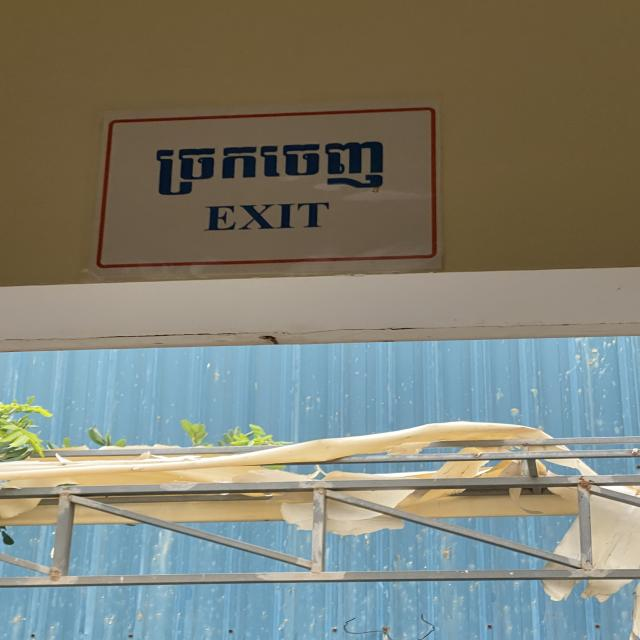Yolov11kh: (144, 135, 397, 200)
